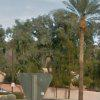Palm tree: (60, 1, 100, 98)
